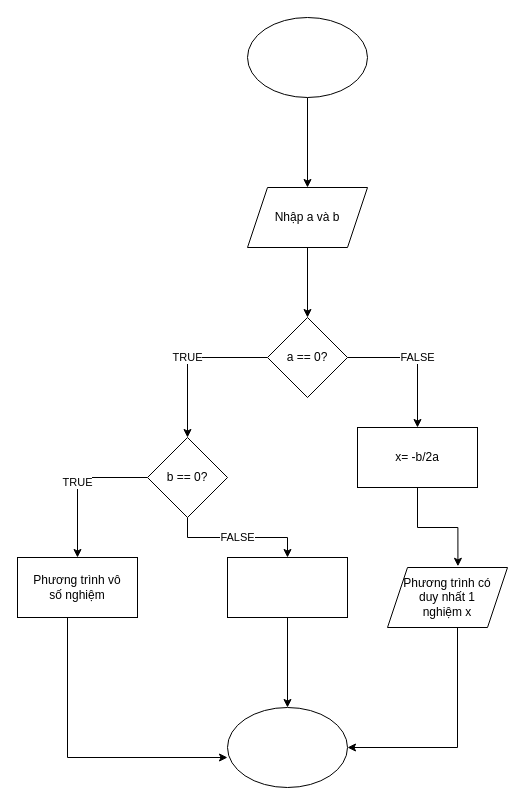
The diagram is 525 pixels wide and 805 high, and some of its shapes have lost their labels. The shapes that lost their labels are listed below. From the top down, each one's centre as x and y in pixels, then its label:
At (307,57): "START".
At (287,587): "Phương trình vô nghiệm".
At (287,747): "END".
